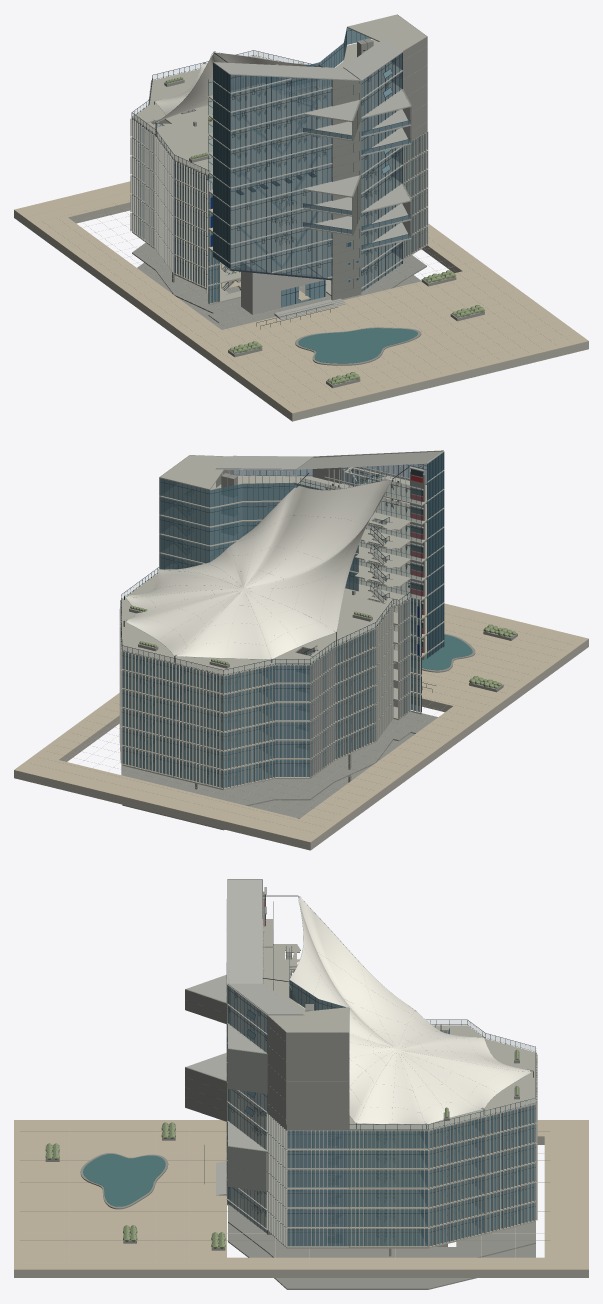
The model's file is fae-v4.glb.
3 views of the same model, one above another, from view 1: azimuth 30°, elevation 25°; view 2: azimuth 150°, elevation 25°; view 3: azimuth 270°, elevation 25° (orthographic). The views are drawn at different scales.
Visible parts, largest first — view 1: tower, site_Piedra del atrio, wings_Lamas exteriores claras, wings_Canto de losas, rooms_Canto de losas, wings_Cristales exteriores, rooms_Piedra del atrio, site_Canto de losas, basement_Hormigón interior, site_Espejo de agua, wings_Hormigón interior, canopy_Membrana blanca (+6 smaller); view 2: wings_Cristales exteriores, canopy_Membrana blanca, site_Piedra del atrio, wings_Lamas exteriores claras, wings_Canto de losas, tower, rooms_Canto de losas, basement_Hormigón interior, site_Canto de losas, rooms_Vidrio de galerías, rooms_Piedra del atrio, wings_Perfilería y pasamanos (+11 smaller); view 3: site_Piedra del atrio, wings_Cristales exteriores, canopy_Membrana blanca, tower, wings_Lamas exteriores claras, wings_Canto de losas, rooms_Piedra del atrio, wings_Hormigón interior, basement_Hormigón interior, site_Canto de losas, rooms_Canto de losas, site_Espejo de agua (+6 smaller).
Boxes of the visible parts, bbox=[...] form: tower: bbox=[213, 38, 411, 329]; site_Piedra del atrio: bbox=[14, 181, 588, 413]; wings_Lamas exteriores claras: bbox=[130, 56, 428, 303]; wings_Canto de losas: bbox=[132, 14, 426, 305]; rooms_Canto de losas: bbox=[208, 39, 426, 186]; wings_Cristales exteriores: bbox=[132, 28, 426, 303]; rooms_Piedra del atrio: bbox=[175, 163, 400, 289]; site_Canto de losas: bbox=[14, 203, 588, 421]; basement_Hormigón interior: bbox=[132, 242, 426, 329]; site_Espejo de agua: bbox=[298, 328, 417, 363]; wings_Hormigón interior: bbox=[164, 14, 427, 162]; canopy_Membrana blanca: bbox=[155, 52, 319, 121]; wings_Cristales exteriores: bbox=[122, 478, 421, 787]; canopy_Membrana blanca: bbox=[125, 480, 391, 659]; site_Piedra del atrio: bbox=[14, 603, 588, 842]; wings_Lamas exteriores claras: bbox=[119, 574, 420, 788]; wings_Canto de losas: bbox=[121, 455, 443, 790]; tower: bbox=[215, 450, 444, 707]; rooms_Canto de losas: bbox=[161, 467, 426, 606]; basement_Hormigón interior: bbox=[121, 712, 437, 830]; site_Canto de losas: bbox=[14, 639, 588, 850]; rooms_Vidrio de galerías: bbox=[300, 475, 421, 655]; rooms_Piedra del atrio: bbox=[122, 596, 426, 788]; wings_Perfilería y pasamanos: bbox=[121, 478, 421, 781]; site_Piedra del atrio: bbox=[14, 1120, 588, 1269]; wings_Cristales exteriores: bbox=[268, 948, 535, 1246]; canopy_Membrana blanca: bbox=[289, 897, 531, 1124]; tower: bbox=[185, 879, 304, 1234]; wings_Lamas exteriores claras: bbox=[266, 1027, 537, 1247]; wings_Canto de losas: bbox=[230, 1007, 535, 1248]; rooms_Piedra del atrio: bbox=[229, 1089, 535, 1247]; wings_Hormigón interior: bbox=[267, 1015, 519, 1130]; basement_Hormigón interior: bbox=[228, 1203, 535, 1289]; site_Canto de losas: bbox=[14, 1136, 588, 1277]; rooms_Canto de losas: bbox=[229, 919, 345, 1130]; site_Espejo de agua: bbox=[83, 1154, 165, 1206].
Size of the model in its own units: 64 by 59.5 by 104.
